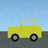vehicle: (8, 19, 41, 42)
